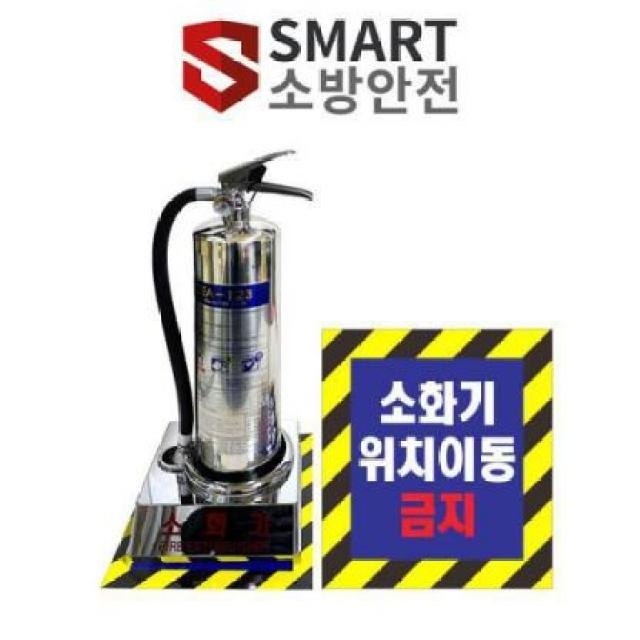fire extinguisher: (151, 149, 314, 475)
